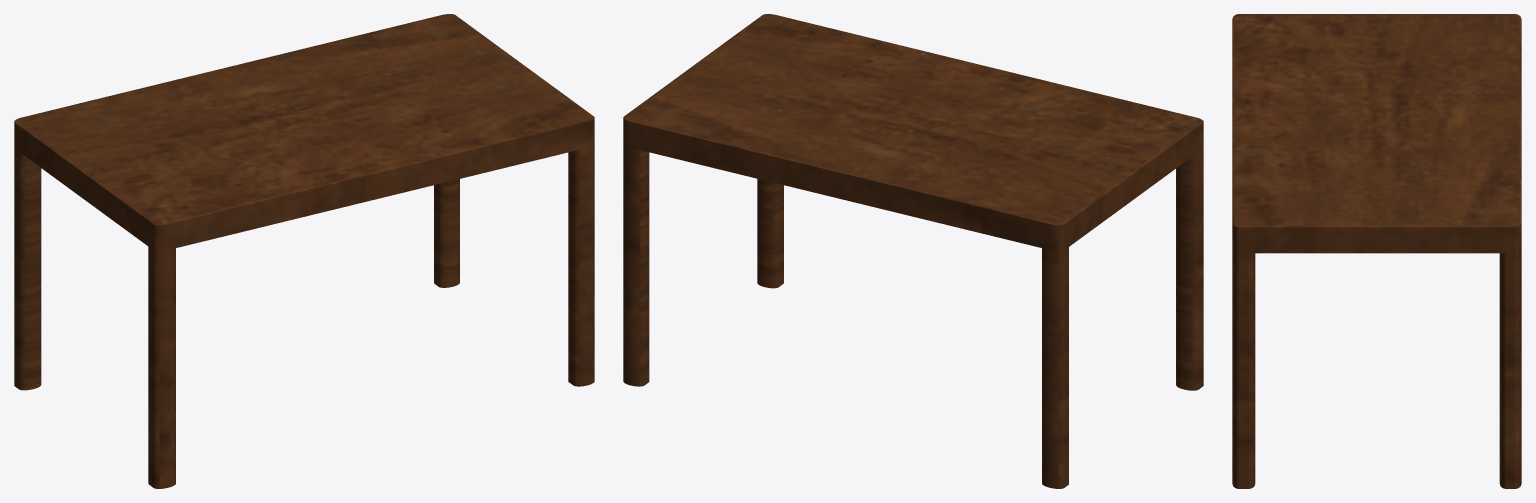
Rendered from Simple Wooden Worn Table.fbx.
The picture shows the model from 3 angles, left to right: view 1: azimuth 30°, elevation 25°; view 2: azimuth 150°, elevation 25°; view 3: azimuth 270°, elevation 25°; orthographic projection.
Visible parts, largest first — view 1: Cube; view 2: Cube; view 3: Cube.
Boxes of the visible parts, x1,y1,x2,y2 form: Cube: [14, 14, 594, 488]; Cube: [623, 14, 1203, 488]; Cube: [1232, 14, 1521, 488].
Bounding box in the file's own units: 349 × 201 × 200.
Materials: 1 (1 with a texture image).
